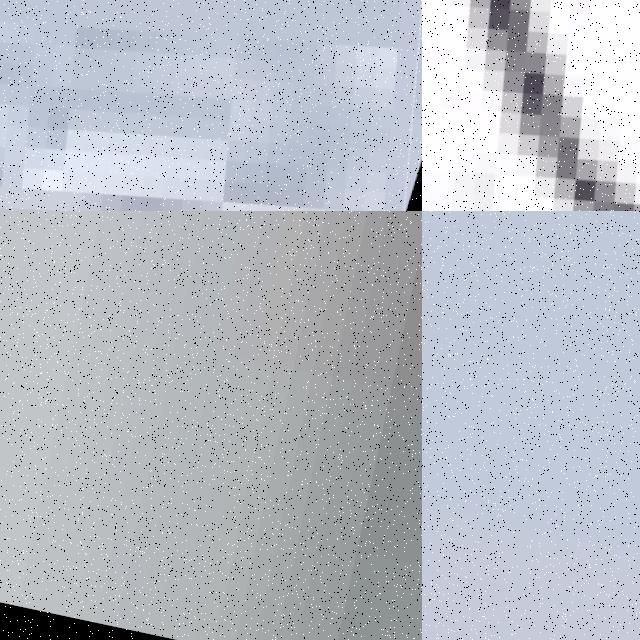drone: (0, 0, 422, 211), (422, 0, 640, 211)
